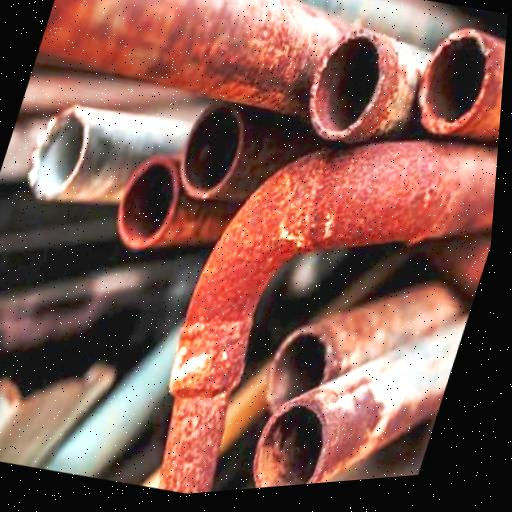corrosion: (159, 141, 498, 493), (254, 316, 468, 488), (37, 0, 346, 117), (309, 29, 430, 143), (118, 155, 239, 249), (418, 29, 506, 140)
